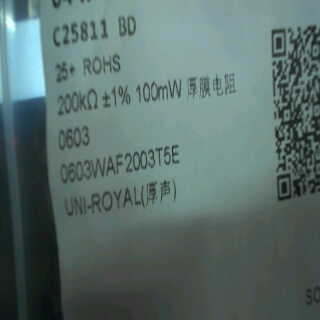200kR: (54, 86, 100, 121)
